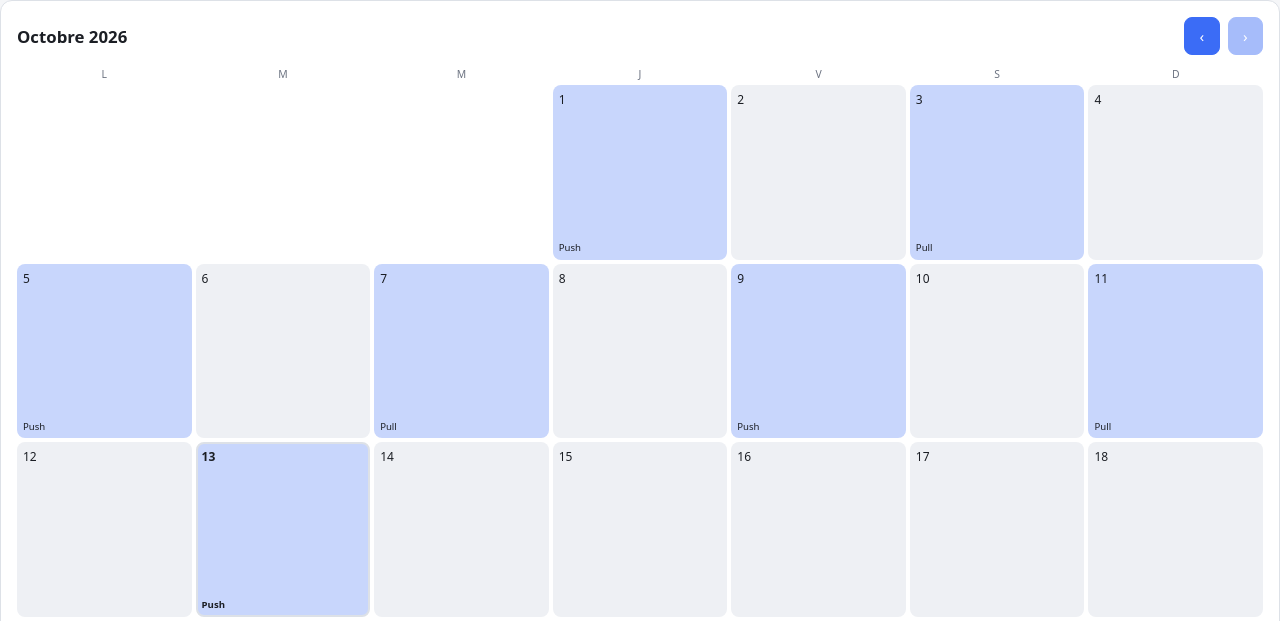
Test: SessionsPanel › navigue entre les mois
Expected: the button named "Mois suivant" is disabled, top-left (1228, 17), bottom-right (1263, 55)
Click the button named "Mois précédent".
click(1202, 36)  # box top-left (1184, 17), bottom-right (1220, 55)
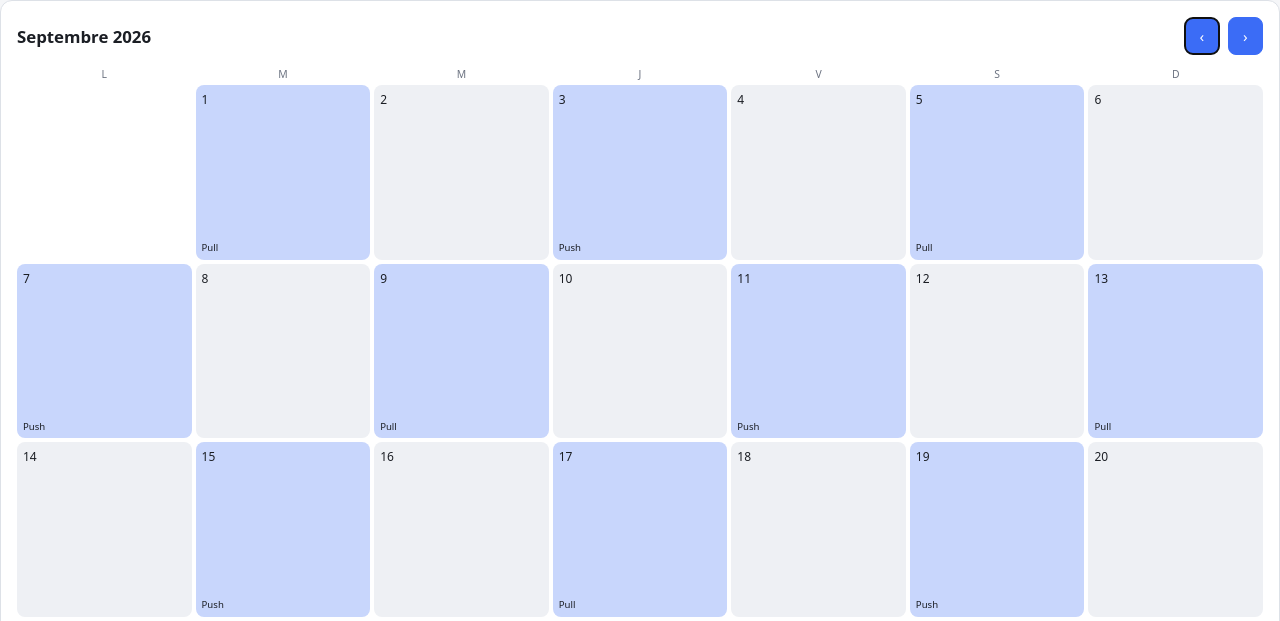
Expected: the button named "Mois suivant" is enabled
Click the button named "Mois suivant".
click(1245, 36)  # box top-left (1228, 17), bottom-right (1263, 55)
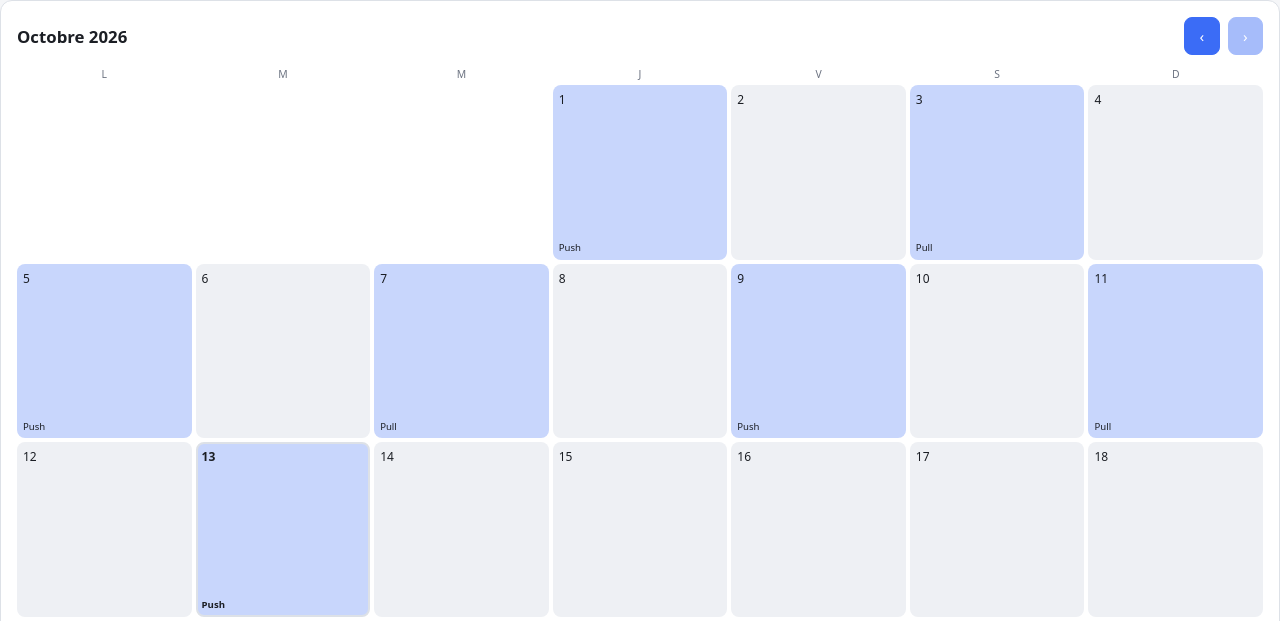
Expected: the button named "Mois suivant" is disabled, top-left (1228, 17), bottom-right (1263, 55)
